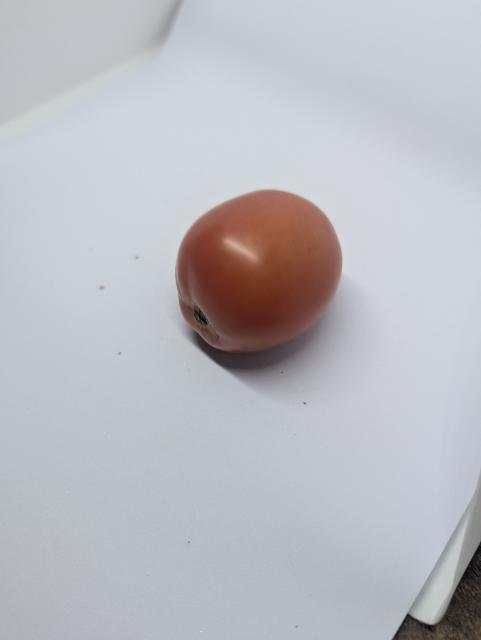red: (172, 189, 346, 359)
